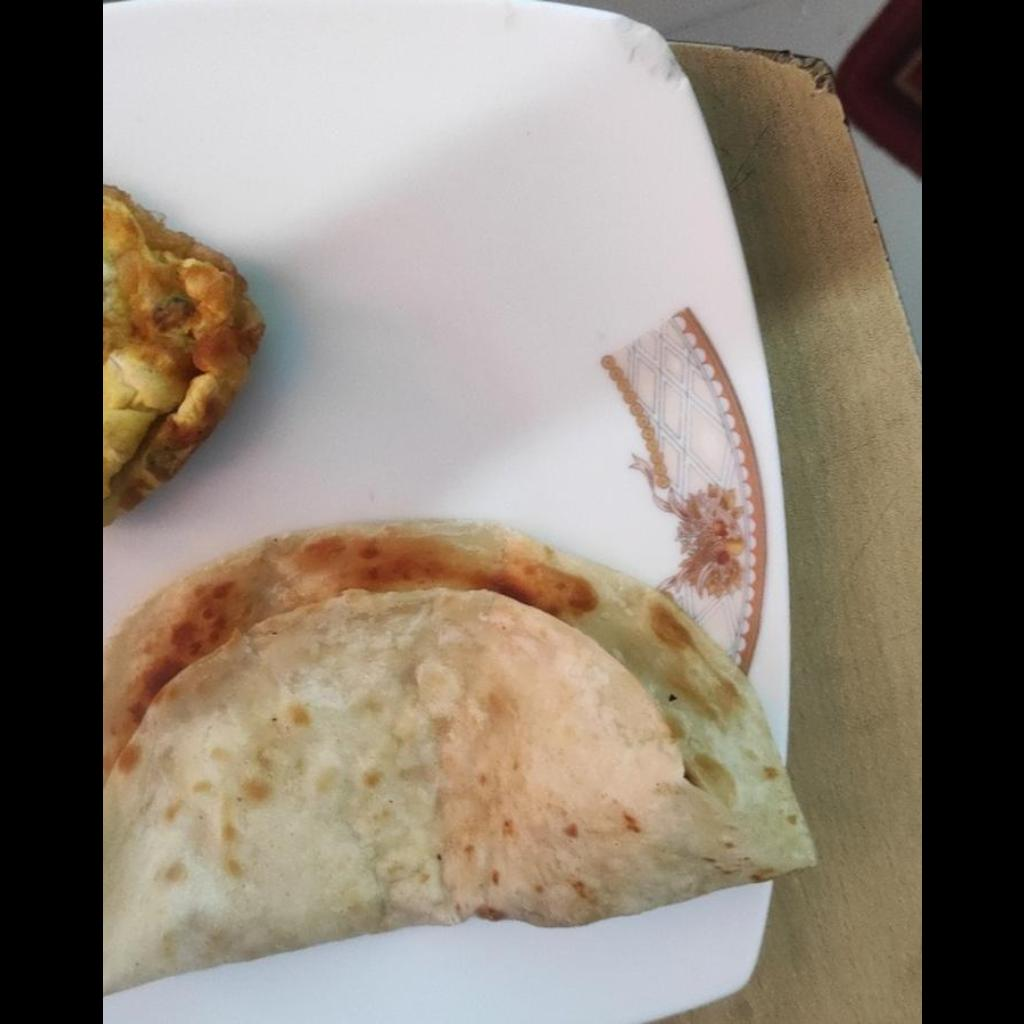egg: (107, 183, 260, 530)
ruti: (104, 520, 826, 990)
